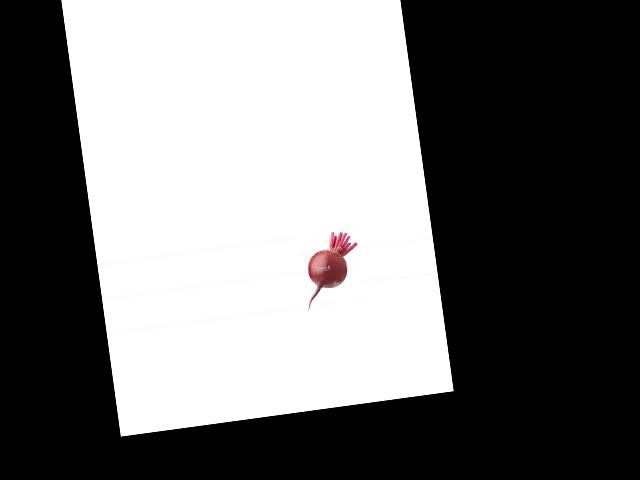beet: (298, 228, 365, 309)
